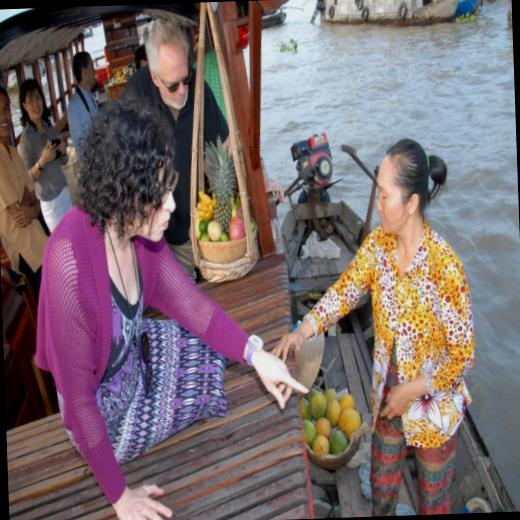Mango: (202, 133, 238, 234)
